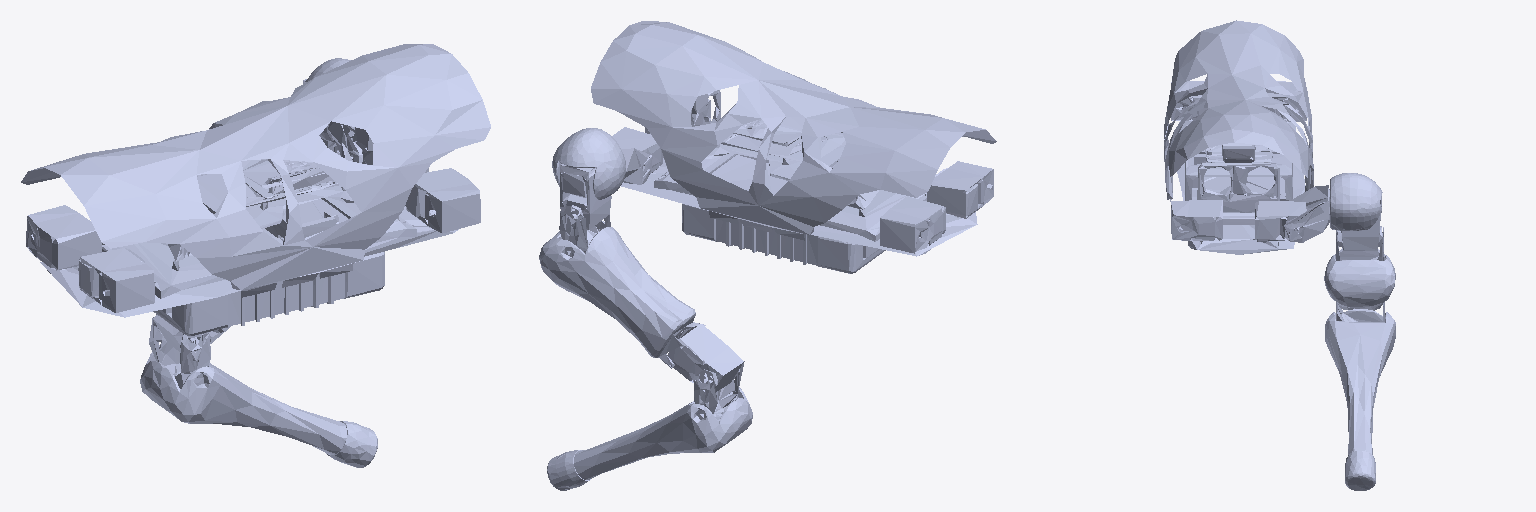
robot.urdf — PinkPanther_URDF_Test2:
<?xml version="1.0" encoding="utf-8"?>
<!-- This URDF was automatically created by SolidWorks to URDF Exporter! Originally created by [author] ([email redacted]) 
     Commit Version: 1.6.0-1-g15f4949  Build Version: 1.6.7594.29634
     For more information, please see http://wiki.ros.org/sw_urdf_exporter -->
<robot
  name="PinkPanther_URDF_Test2">
  <link
    name="base_link">
    <inertial>
      <origin
        xyz="0.00330331665446665 0.0134210233318688 0.000330796304878543"
        rpy="0 0 0" />
      <mass
        value="0.943175379685331" />
      <inertia
        ixx="0.000843754097455612"
        ixy="-9.02236540608491E-05"
        ixz="-1.97983849821535E-07"
        iyy="0.00333595130361869"
        iyz="-6.6740514790822E-08"
        izz="0.00280083806021208" />
    </inertial>
    <visual>
      <origin
        xyz="0 0 0"
        rpy="0 0 0" />
      <geometry>
        <mesh
          filename="package://PinkPanther_URDF_Test2/meshes/base_link.STL" />
      </geometry>
      <material
        name="">
        <color
          rgba="0.792156862745098 0.819607843137255 0.933333333333333 1" />
      </material>
    </visual>
    <collision>
      <origin
        xyz="0 0 0"
        rpy="0 0 0" />
      <geometry>
        <mesh
          filename="package://PinkPanther_URDF_Test2/meshes/base_link.STL" />
      </geometry>
    </collision>
  </link>
  <link
    name="lf_scapula_link">
    <inertial>
      <origin
        xyz="-0.0307478229173775 0.0107619980269326 0.0454037559923907"
        rpy="0 0 0" />
      <mass
        value="0.08302414117345" />
      <inertia
        ixx="1.95136190626042E-05"
        ixy="2.08355453350449E-07"
        ixz="3.21766968383269E-07"
        iyy="1.90592987858334E-05"
        iyz="-9.82540532464469E-07"
        izz="2.17756582625573E-05" />
    </inertial>
    <visual>
      <origin
        xyz="0 0 0"
        rpy="0 0 0" />
      <geometry>
        <mesh
          filename="package://PinkPanther_URDF_Test2/meshes/lf_scapula_link.STL" />
      </geometry>
      <material
        name="">
        <color
          rgba="0.792156862745098 0.819607843137255 0.933333333333333 1" />
      </material>
    </visual>
    <collision>
      <origin
        xyz="0 0 0"
        rpy="0 0 0" />
      <geometry>
        <mesh
          filename="package://PinkPanther_URDF_Test2/meshes/lf_scapula_link.STL" />
      </geometry>
    </collision>
  </link>
  <joint
    name="lf_armpit_joint"
    type="continuous">
    <origin
      xyz="0.086171 0.04808 0.020686"
      rpy="1.5708 -4.0815E-05 3.1416" />
    <parent
      link="base_link" />
    <child
      link="lf_scapula_link" />
    <axis
      xyz="1 -4.0815E-05 0" />
    <limit
      lower="0"
      upper="0"
      effort="0"
      velocity="0" />
  </joint>
  <link
    name="lf_humerus_link">
    <inertial>
      <origin
        xyz="0.0599393671973508 -0.0341509189584286 0.0323475501239797"
        rpy="0 0 0" />
      <mass
        value="0.205227539835006" />
      <inertia
        ixx="5.26317426297876E-05"
        ixy="-6.87018255511583E-06"
        ixz="-1.70302696281421E-08"
        iyy="0.000207658536439962"
        iyz="3.20255041781652E-10"
        izz="0.000196664377931724" />
    </inertial>
    <visual>
      <origin
        xyz="0 0 0"
        rpy="0 0 0" />
      <geometry>
        <mesh
          filename="package://PinkPanther_URDF_Test2/meshes/lf_humerus_link.STL" />
      </geometry>
      <material
        name="">
        <color
          rgba="0.792156862745098 0.819607843137255 0.933333333333333 1" />
      </material>
    </visual>
    <collision>
      <origin
        xyz="0 0 0"
        rpy="0 0 0" />
      <geometry>
        <mesh
          filename="package://PinkPanther_URDF_Test2/meshes/lf_humerus_link.STL" />
      </geometry>
    </collision>
  </link>
  <joint
    name="lf_shoulder_joint"
    type="continuous">
    <origin
      xyz="-0.029275 -0.014657 0.02045"
      rpy="0 0 -0.5236" />
    <parent
      link="lf_scapula_link" />
    <child
      link="lf_humerus_link" />
    <axis
      xyz="0 0 1" />
    <limit
      lower="0"
      upper="0"
      effort="0"
      velocity="0" />
  </joint>
  <link
    name="lf_ulna_link">
    <inertial>
      <origin
        xyz="-0.0602300180729836 -0.0311427169364051 0.0300921592418351"
        rpy="0 0 0" />
      <mass
        value="0.129518977611389" />
      <inertia
        ixx="2.77037088503312E-05"
        ixy="6.55368550236014E-06"
        ixz="1.06768612045404E-09"
        iyy="0.000261061310693975"
        iyz="2.95073964447296E-09"
        izz="0.000250498590500445" />
    </inertial>
    <visual>
      <origin
        xyz="0 0 0"
        rpy="0 0 0" />
      <geometry>
        <mesh
          filename="package://PinkPanther_URDF_Test2/meshes/lf_ulna_link.STL" />
      </geometry>
      <material
        name="">
        <color
          rgba="0.792156862745098 0.819607843137255 0.933333333333333 1" />
      </material>
    </visual>
    <collision>
      <origin
        xyz="0 0 0"
        rpy="0 0 0" />
      <geometry>
        <mesh
          filename="package://PinkPanther_URDF_Test2/meshes/lf_ulna_link.STL" />
      </geometry>
    </collision>
  </link>
  <joint
    name="lf_elbow_joint"
    type="continuous">
    <origin
      xyz="0.14707 -0.034829 0.0025103"
      rpy="0 0 1.0472" />
    <parent
      link="lf_humerus_link" />
    <child
      link="lf_ulna_link" />
    <axis
      xyz="0 0 1" />
    <limit
      lower="0"
      upper="0"
      effort="0"
      velocity="0" />
  </joint>
</robot>

--- Render facts (derived) ---
3 views of the same robot in one strip: view 1: azimuth 30°, elevation 25°; view 2: azimuth 150°, elevation 25°; view 3: azimuth 270°, elevation 25° (orthographic).
Model PinkPanther_URDF_Test2 with 4 links and 3 joints (3 continuous), rooted at base_link, posed every joint at zero.
Visible links, largest first — view 1: base_link, lf_ulna_link, lf_scapula_link, lf_humerus_link; view 2: base_link, lf_humerus_link, lf_ulna_link, lf_scapula_link; view 3: base_link, lf_ulna_link, lf_scapula_link, lf_humerus_link.
Link boxes in pixels (<box>): base_link: <box>21,44,490,335</box>; lf_ulna_link: <box>140,314,377,467</box>; lf_scapula_link: <box>303,58,362,162</box>; lf_humerus_link: <box>153,138,352,352</box>; base_link: <box>591,21,996,273</box>; lf_humerus_link: <box>539,205,743,391</box>; lf_ulna_link: <box>547,361,752,490</box>; lf_scapula_link: <box>552,128,652,229</box>; base_link: <box>1164,20,1313,254</box>; lf_ulna_link: <box>1325,302,1395,490</box>; lf_scapula_link: <box>1284,173,1382,250</box>; lf_humerus_link: <box>1324,226,1395,310</box>.
Bounding box of the posed robot: 0.2847 × 0.1932 × 0.3277 m (x, y, z).
4 mesh visuals loaded from 4 distinct referenced files (4 binary STL).